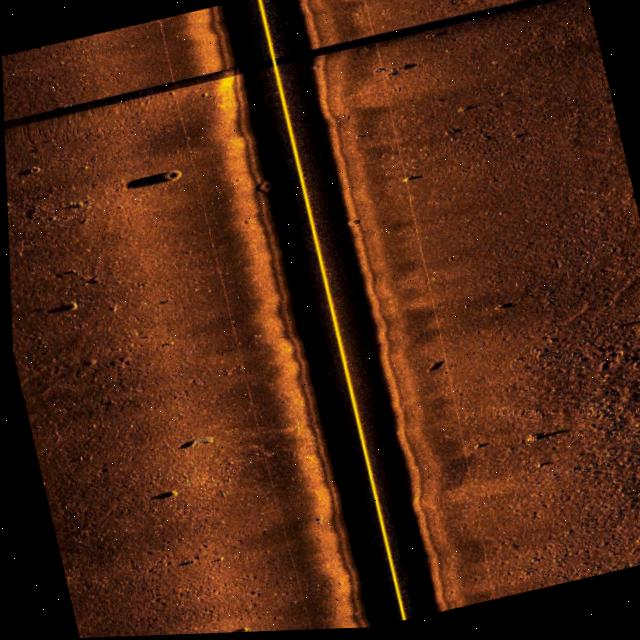mine: (418, 361, 447, 379)
other: (118, 164, 180, 197), (176, 431, 218, 459)
